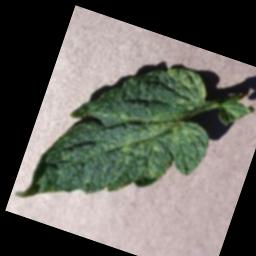Leaf_Mold: (15, 29, 228, 248)
